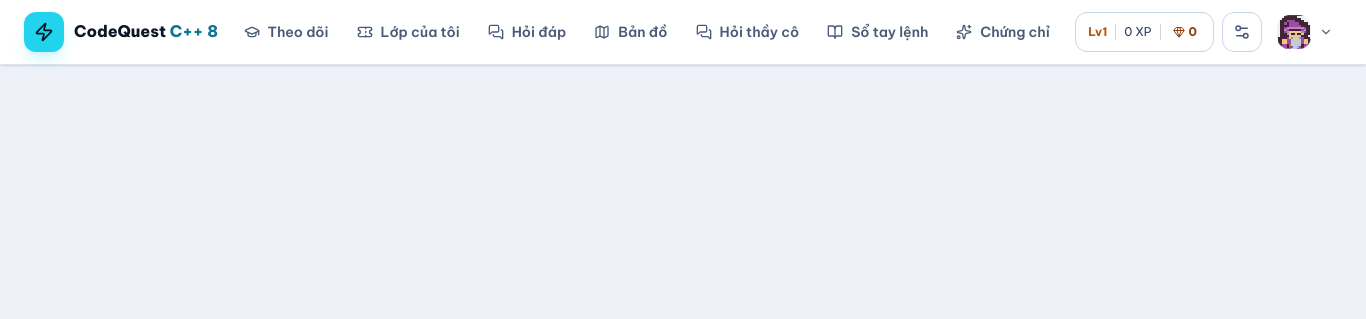
Test: Thanh điều hướng — phân biệt giáo viên và học sinh › giáo viên vẫn vào được mọi khu vực của học sinh
Expected: the link "Bản đồ" is shown, [594,23,668,41]
Expected: the link "Sổ tay lệnh" is shown, [827,23,928,41]
What coordinates should you click on to do the following:
click the button named "Mở menu hồ sơ"
I would click on:
 (1306, 32)
Its box is [1270,10,1342,54].
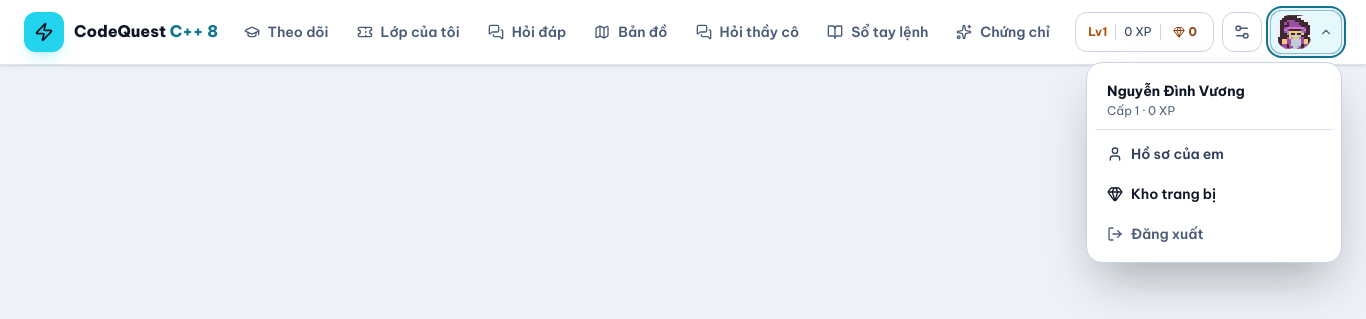
Expected: the link "Hồ sơ của em" is shown, [1107,145,1224,163]
